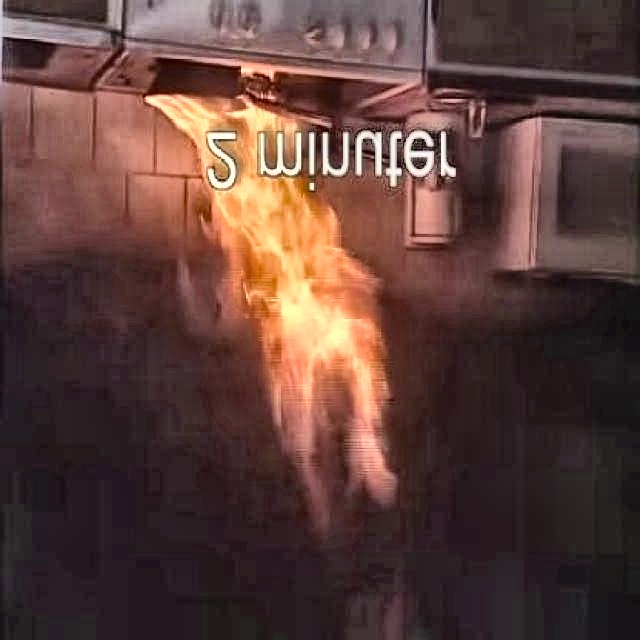fire: (133, 59, 386, 499)
